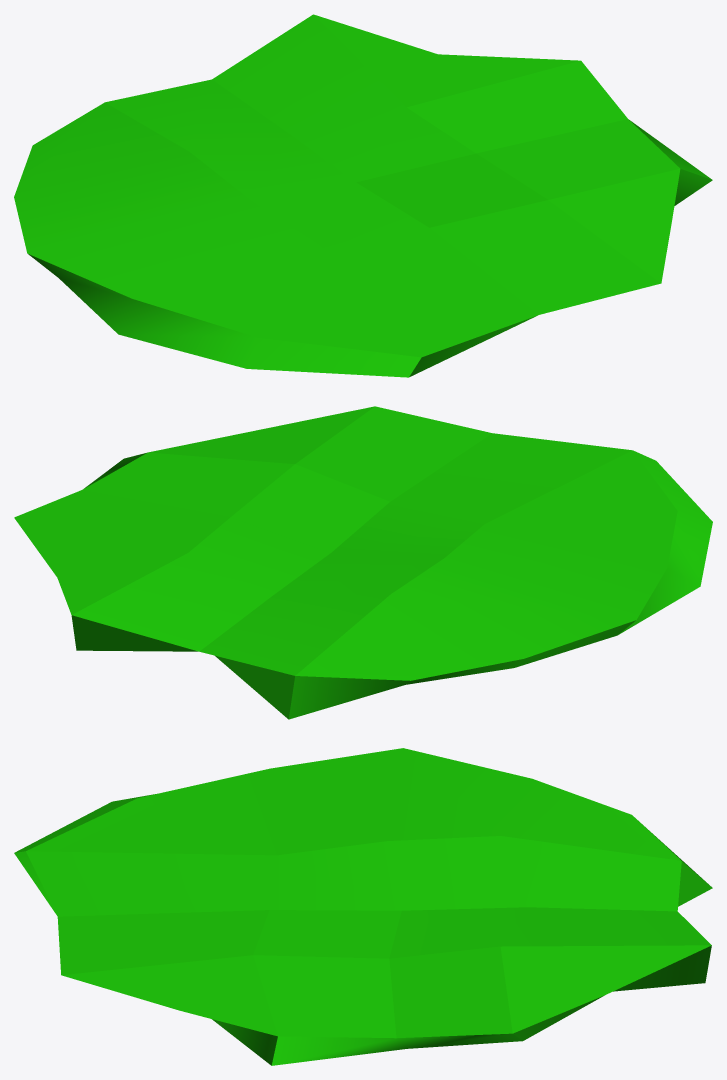
Rendered from Salad.fbx.
3 views of the same model, one above another, from view 1: azimuth 30°, elevation 25°; view 2: azimuth 150°, elevation 25°; view 3: azimuth 270°, elevation 25° (orthographic). The views are drawn at different scales.
Parts seen in each view (by area): view 1: Salad; view 2: Salad; view 3: Salad.
Part boxes in pixels (box(x1,y1,x2,y2)): Salad: box(14, 14, 712, 377); Salad: box(14, 406, 712, 719); Salad: box(14, 748, 712, 1065).
Size of the model in its own units: 21.03 by 1.91 by 21.33.
